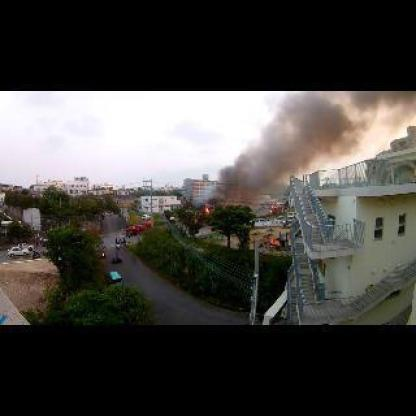fire: (200, 204, 211, 217)
